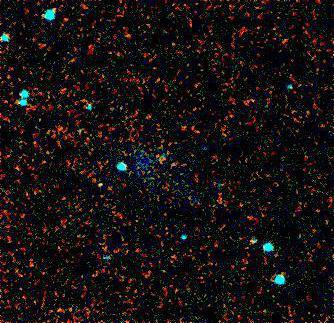star: (85, 170, 115, 200)
